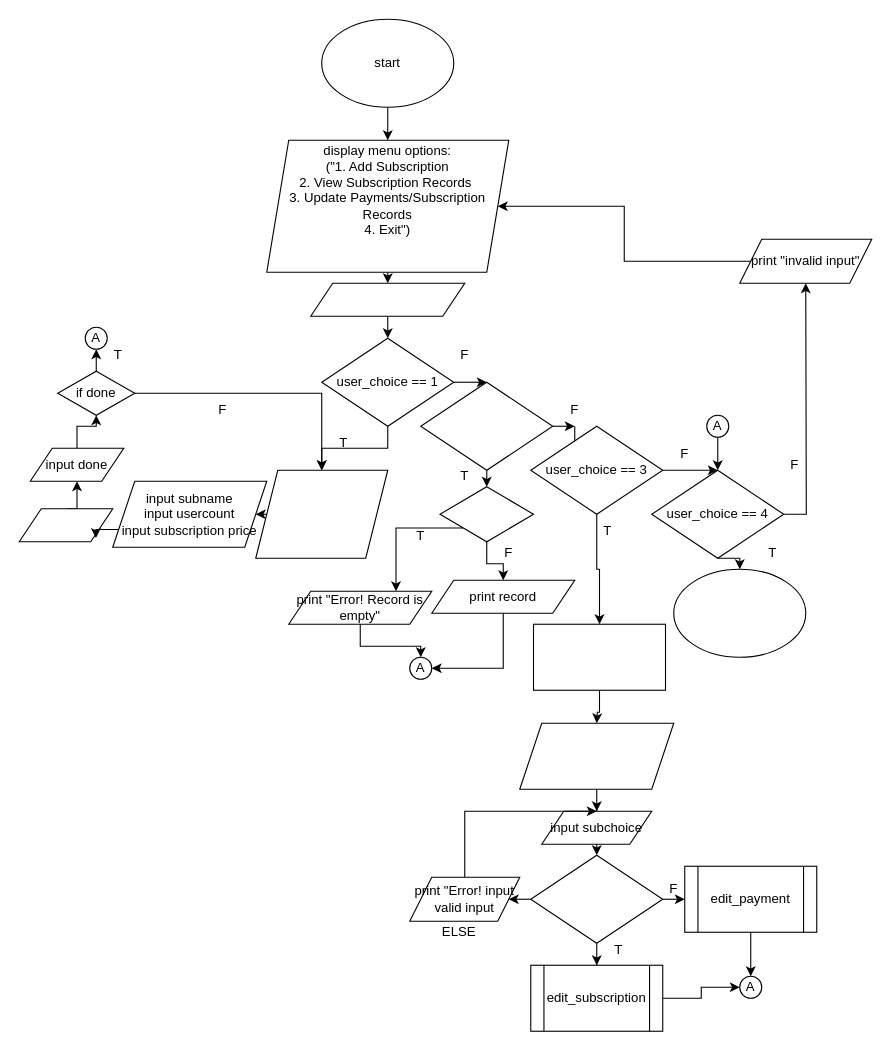
Some shapes in this 891 by 1051 pixel diagram are drawn without their labels. Here are the shapes that lost their labels. From the top down, the centre of each, then its label:
the point at 387,299: input user_choice
the point at 486,425: user_choice == 2
the point at 65,525: print "done?
the point at 321,513: print "input subscription name"
the point at 486,514: record == ""
the point at 739,612: end
the point at 599,656: select a subscription from array/list
the point at 596,755: print "1. Edit subscription 2. Edit payment status of [subname]"
the point at 596,898: subchoice == 1
